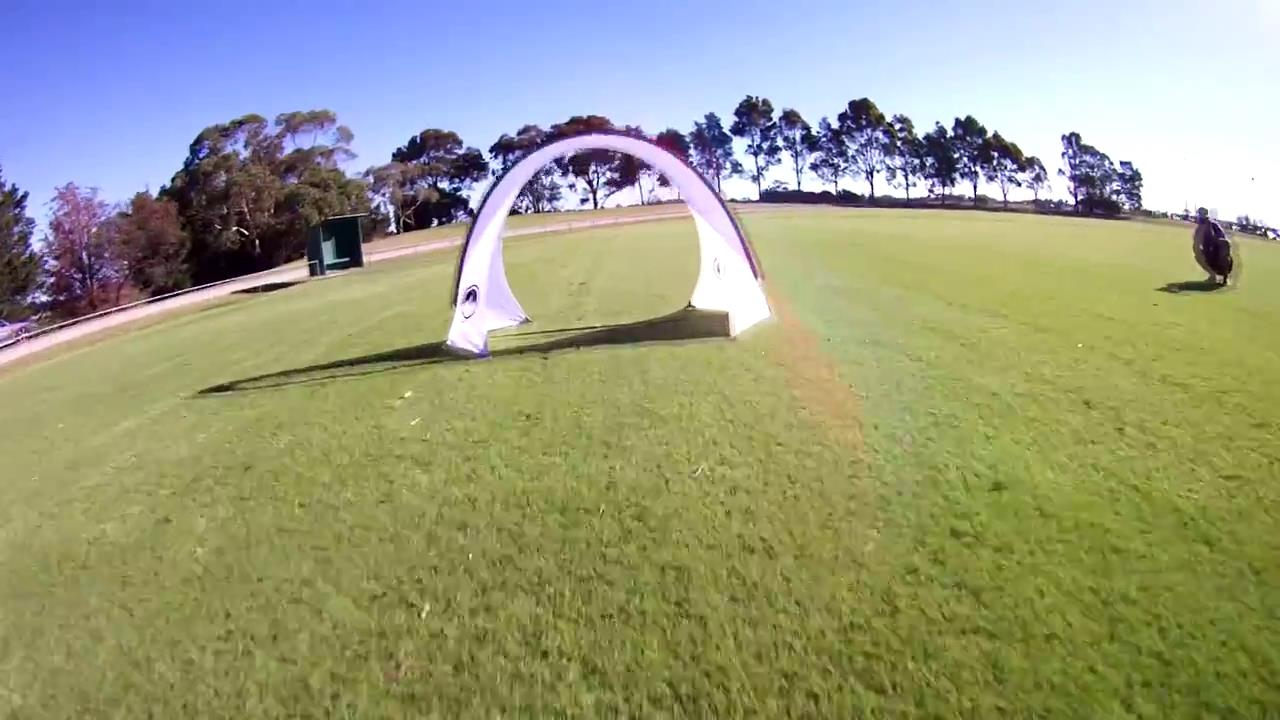gate: (444, 129, 782, 359)
